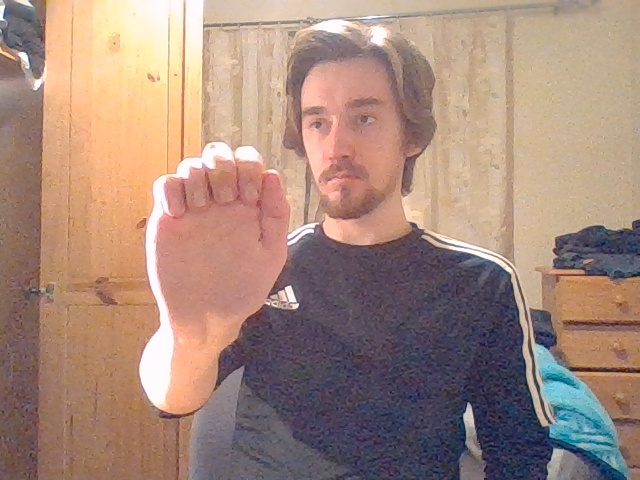your: (146, 139, 289, 312)
